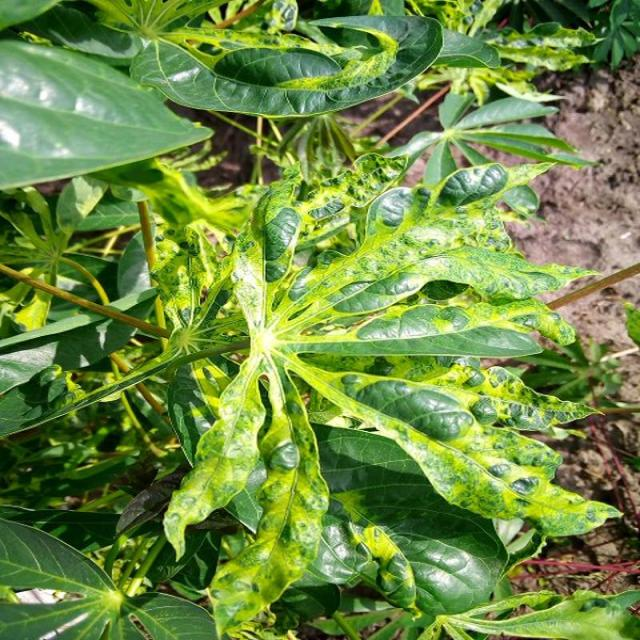cassava leaf: (1, 3, 632, 637), (129, 11, 444, 118), (0, 36, 214, 190)
